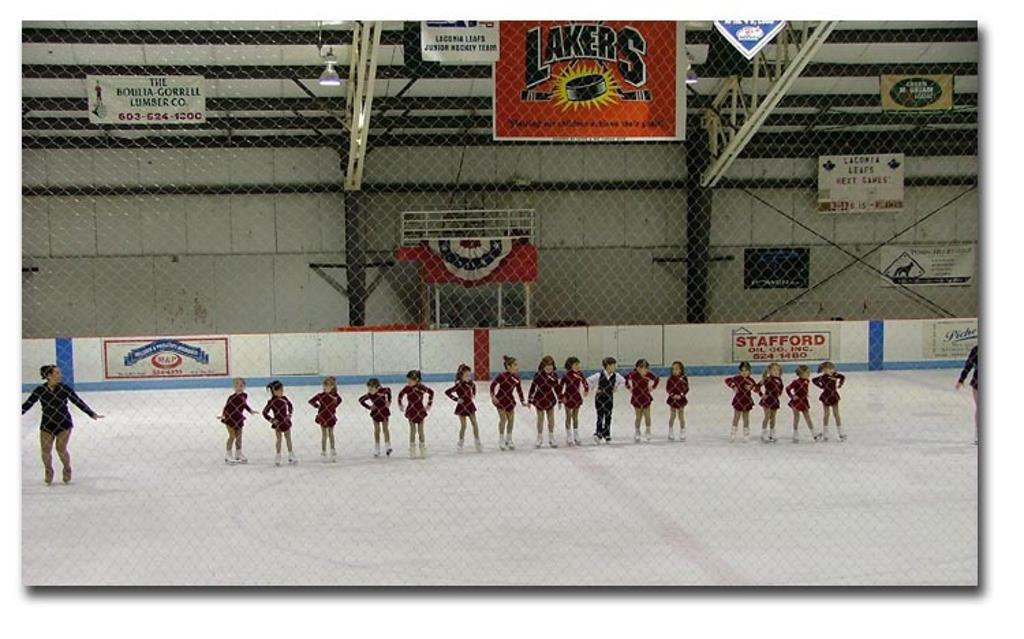face: (52, 368, 61, 383), (772, 366, 782, 377), (235, 381, 244, 393), (407, 377, 416, 387), (827, 365, 835, 376), (673, 365, 681, 376), (368, 386, 377, 395), (512, 361, 520, 371), (324, 382, 332, 392), (465, 371, 472, 382), (742, 366, 749, 376), (641, 366, 648, 376), (276, 388, 283, 398), (610, 363, 617, 372), (573, 362, 580, 371), (546, 365, 553, 373), (805, 369, 811, 377)
